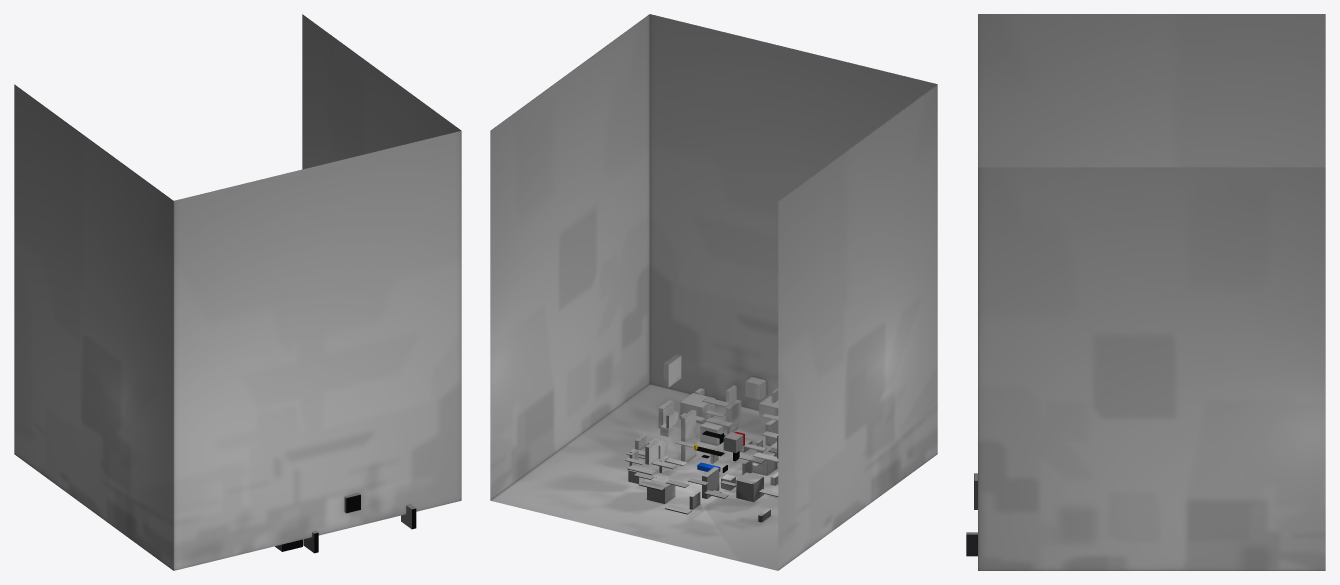
The model's file is GORIN_GLTF_SHADHOW.gltf.
The picture shows the model from 3 angles, left to right: view 1: azimuth 30°, elevation 25°; view 2: azimuth 150°, elevation 25°; view 3: azimuth 270°, elevation 25°; orthographic projection. The views are drawn at different scales.
Parts seen in each view (by area): view 1: CUBE, RANDOM_BOX; view 2: CUBE, RANDOM_BOX, RANDOM_PLATE; view 3: CUBE.
Part boxes in pixels (x1,y1,x2,y2): CUBE: (14, 14, 461, 570); RANDOM_BOX: (275, 493, 416, 553); CUBE: (490, 14, 937, 570); RANDOM_BOX: (628, 354, 778, 522); RANDOM_PLATE: (625, 397, 778, 514); CUBE: (978, 14, 1325, 570).
Bounding box in the file's own units: 861 × 1103 × 854.
7 materials, 7 textured.
